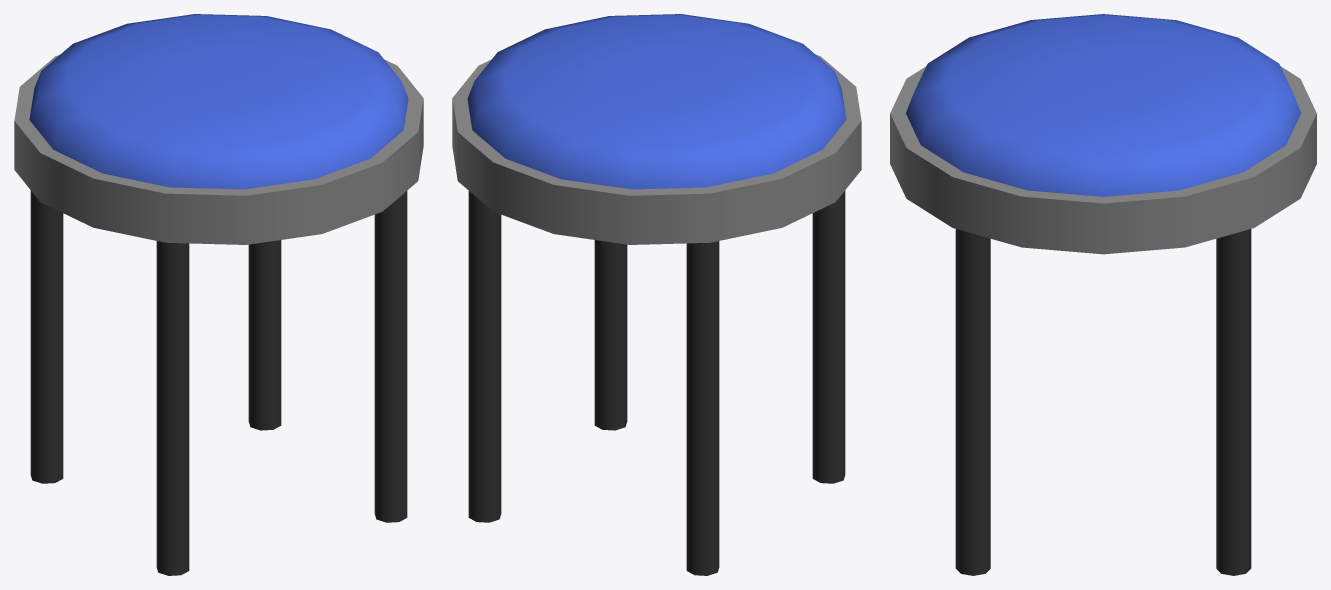
Rendered from chair_lab.fbx.
3 renders of one model, left to right at view 1: azimuth 30°, elevation 25°; view 2: azimuth 150°, elevation 25°; view 3: azimuth 270°, elevation 25°, orthographic. The views are drawn at different scales.
Parts seen in each view (by area): view 1: Cylinder; view 2: Cylinder; view 3: Cylinder.
Part boxes in pixels (x1,y1,x2,y2): Cylinder: (14, 14, 423, 575); Cylinder: (452, 14, 861, 575); Cylinder: (890, 14, 1316, 575).
Size of the model in its own units: 88.56 by 99.67 by 88.56.
